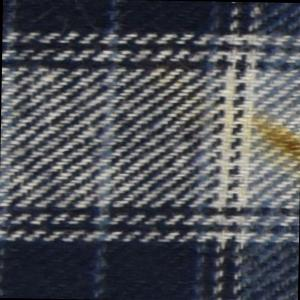Oil Stain: (237, 106, 300, 175)
